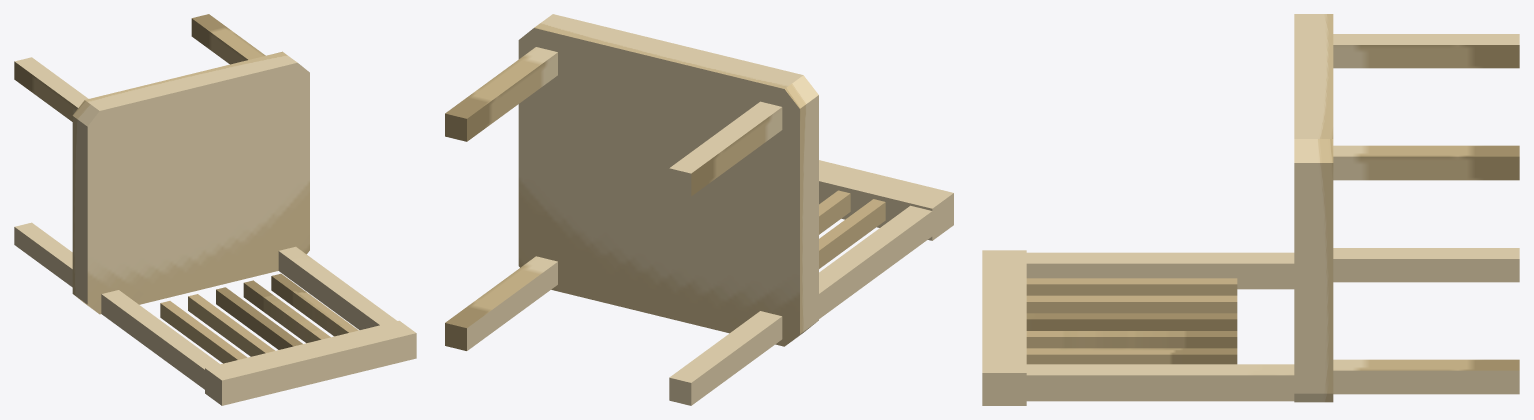
The model's file is pz_chair_seating_indoor_03_white_simple.obj.
3 views of the same model, side by side, from view 1: azimuth 30°, elevation 25°; view 2: azimuth 150°, elevation 25°; view 3: azimuth 270°, elevation 25° (orthographic). The views are drawn at different scales.
Visible parts, largest first — view 1: root; view 2: root; view 3: root.
Boxes of the visible parts, x1,y1,x2,y2 form: root: (14,14,416,405); root: (445,14,953,405); root: (982,14,1519,405).
Size of the model in its own units: 0.64 by 0.57 by 1.03.
1 material, 1 textured.
